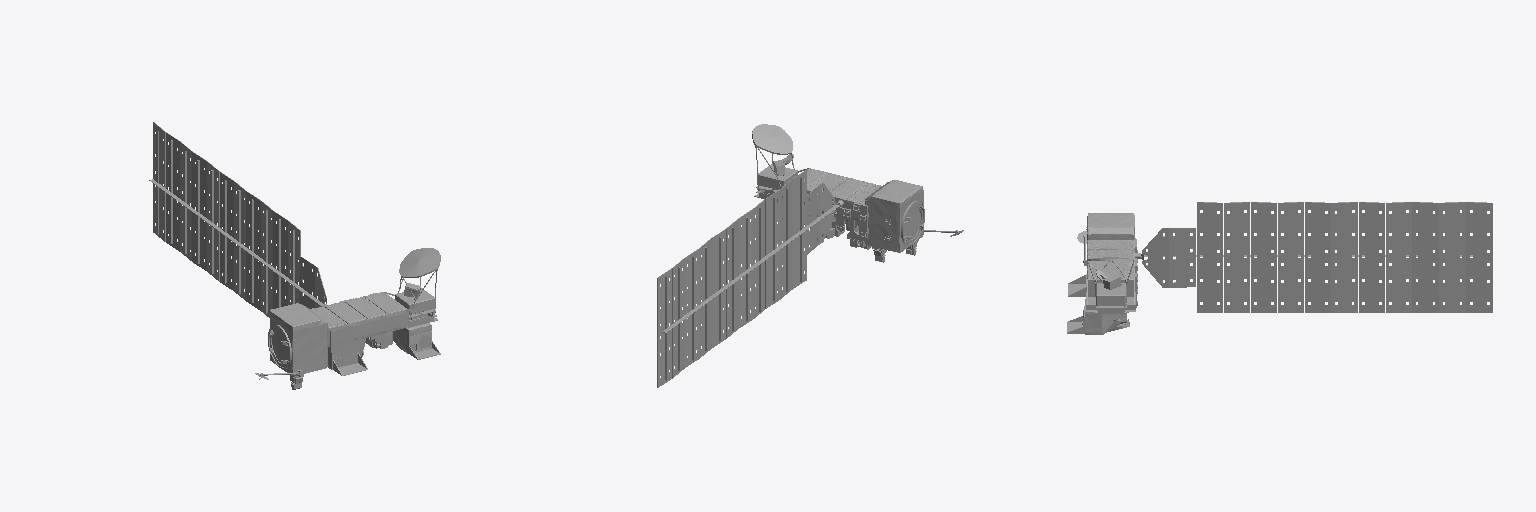
The model's file is nasa-aqua-satellite.obj.
3 views of the same model, side by side, from view 1: azimuth 30°, elevation 25°; view 2: azimuth 150°, elevation 25°; view 3: azimuth 270°, elevation 25° (orthographic).
Parts seen in each view (by area): view 1: tex_01_Default_006, foil_gold_Default_002, foil_silver_Default_001, gold_2_Default_000, shiny_panel_Default_005; view 2: tex_01_Default_006, foil_gold_Default_002, gold_2_Default_000, foil_silver_Default_001, shiny_panel_Default_005; view 3: shiny_panel_Default_005, tex_01_Default_006, foil_gold_Default_002, gold_2_Default_000, foil_silver_Default_001.
Part boxes in pixels (x1,y1,x2,y2): tex_01_Default_006: (149,122,440,389); foil_gold_Default_002: (269,270,437,375); foil_silver_Default_001: (290,283,440,384); gold_2_Default_000: (311,292,406,328); shiny_panel_Default_005: (153,122,300,309); tex_01_Default_006: (658,124,963,387); foil_gold_Default_002: (755,146,923,252); gold_2_Default_000: (804,168,881,204); foil_silver_Default_001: (754,160,918,255); shiny_panel_Default_005: (657,170,806,387); shiny_panel_Default_005: (1197,202,1492,312); tex_01_Default_006: (1077,211,1472,326); foil_gold_Default_002: (1085,213,1136,334); gold_2_Default_000: (1087,240,1134,278); foil_silver_Default_001: (1067,238,1137,333).
Size of the model in its own units: 9.4 by 5.08 by 17.78.